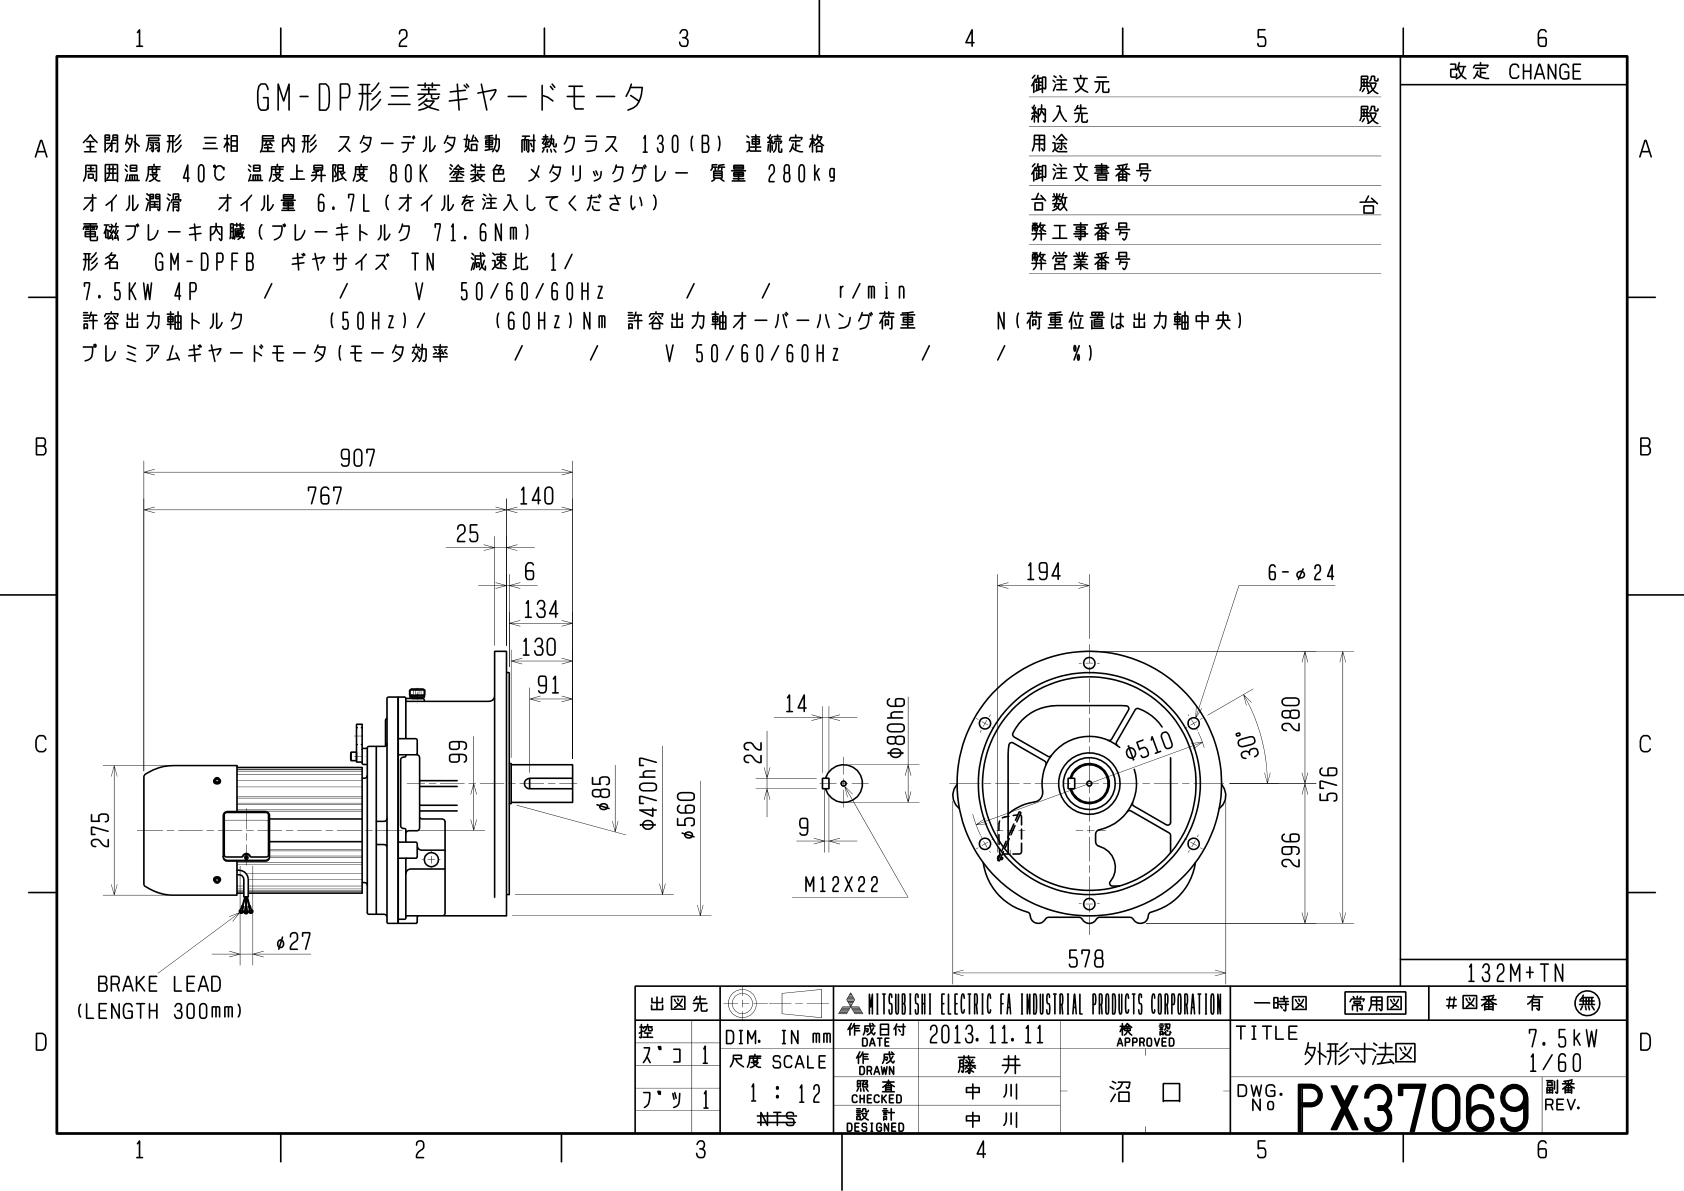GM_DP_屋内_三相_フランジ: (13, 14, 1684, 1191)
